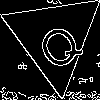Q: (29, 13, 86, 76)
